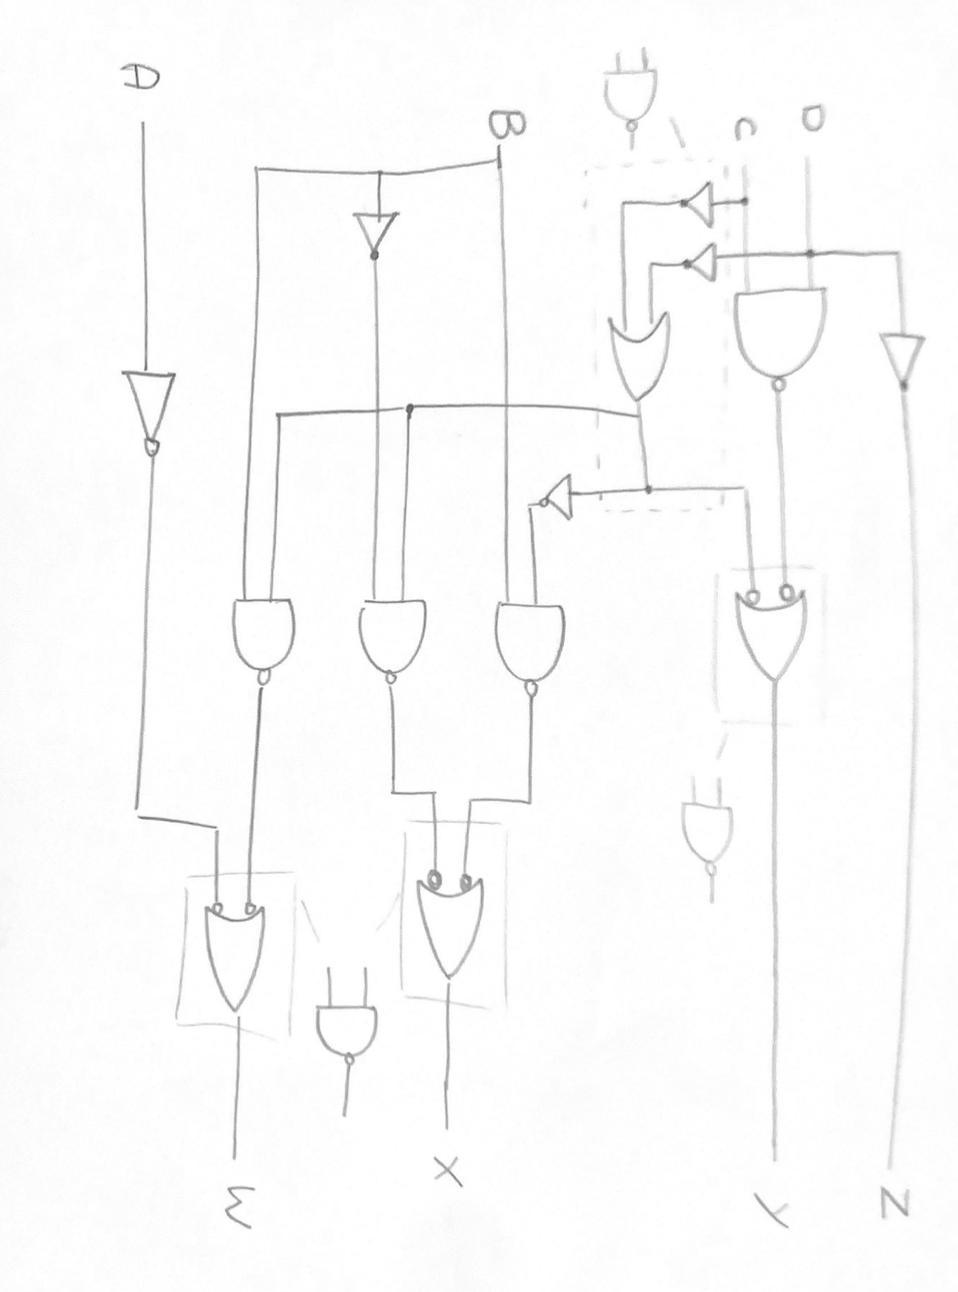NAND: (733, 280, 839, 403), (480, 583, 587, 705), (225, 573, 313, 695), (345, 585, 445, 692), (310, 997, 403, 1085), (675, 785, 750, 892), (590, 55, 673, 139)
NOT: (113, 352, 202, 472), (859, 313, 943, 405), (342, 197, 417, 269), (530, 468, 591, 532), (671, 167, 728, 230), (679, 238, 723, 293)
OR: (182, 882, 287, 1027), (408, 850, 506, 991), (600, 303, 698, 408)
